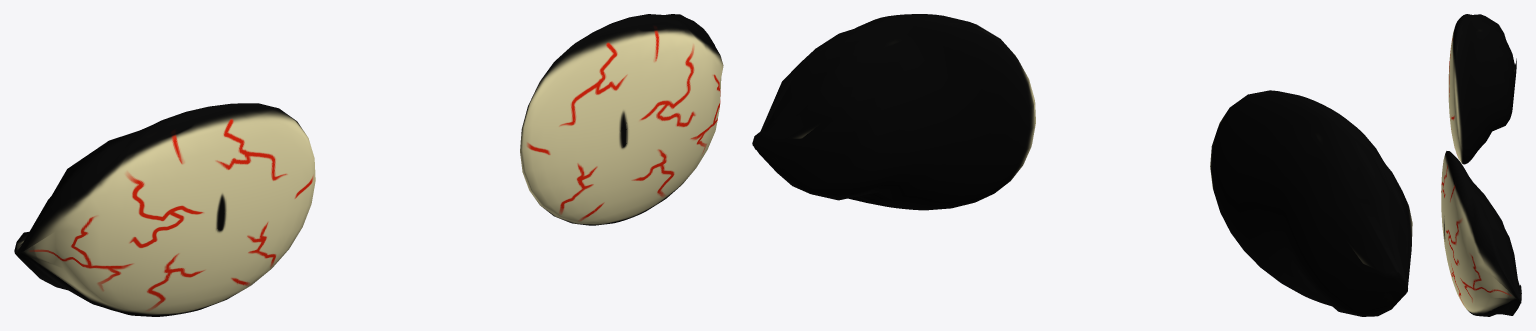
Rendered from Crazy.glb.
3 renders of one model, left to right at view 1: azimuth 30°, elevation 25°; view 2: azimuth 150°, elevation 25°; view 3: azimuth 270°, elevation 25°, orthographic. The views are drawn at different scales.
Parts seen in each view (by area): view 1: Sphere.014; view 2: Sphere.014; view 3: Sphere.014.
Part boxes in pixels (x1,y1,x2,y2): Sphere.014: [14, 14, 723, 316]; Sphere.014: [752, 14, 1412, 316]; Sphere.014: [1441, 14, 1521, 316].
Bounding box in the file's own units: 0.3835 × 0.1139 × 0.0576.
1 material, 1 textured.
